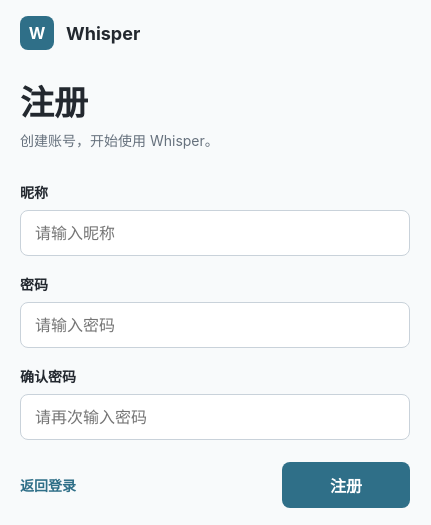
Test: RegisterPanel › disables registration while the request is pending
Step 1. Type "alice" into the field labelled "昵称" → (215, 233), box [20,210,410,256]
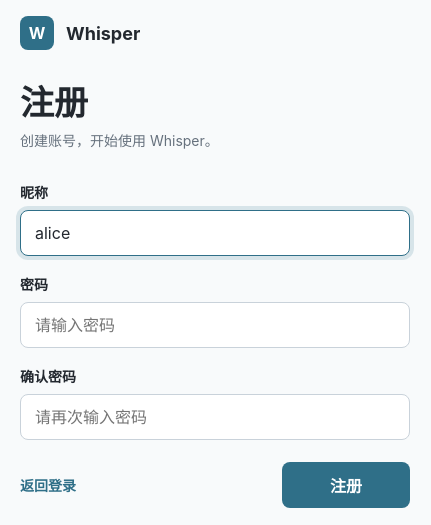
Step 2. Type "secret" into the password field labelled "密码" → (215, 325), box [20,302,410,348]
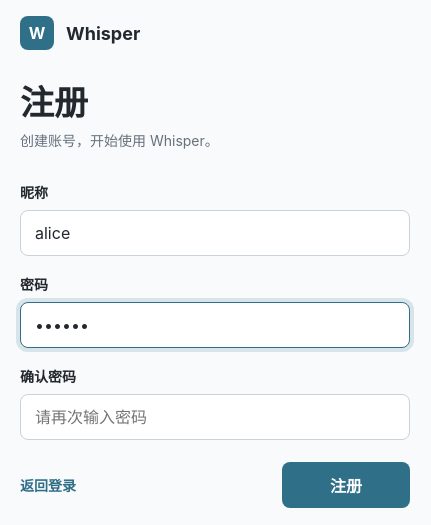
Step 3. Type "secret" into the password field labelled "确认密码" → (215, 417), box [20,394,410,440]
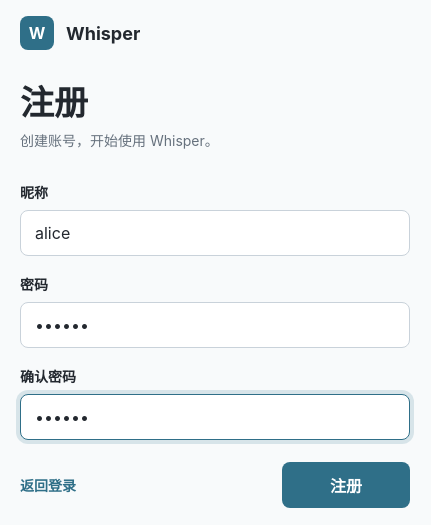
Step 4. Click the button "注册" → (346, 485), box [282,462,410,508]
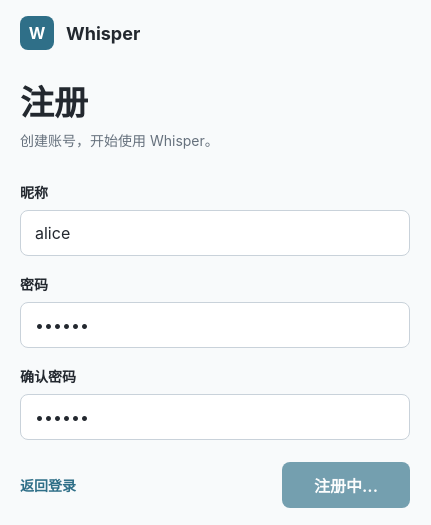
expect the button "注册中..." is disabled: met, box [282,462,410,508]
